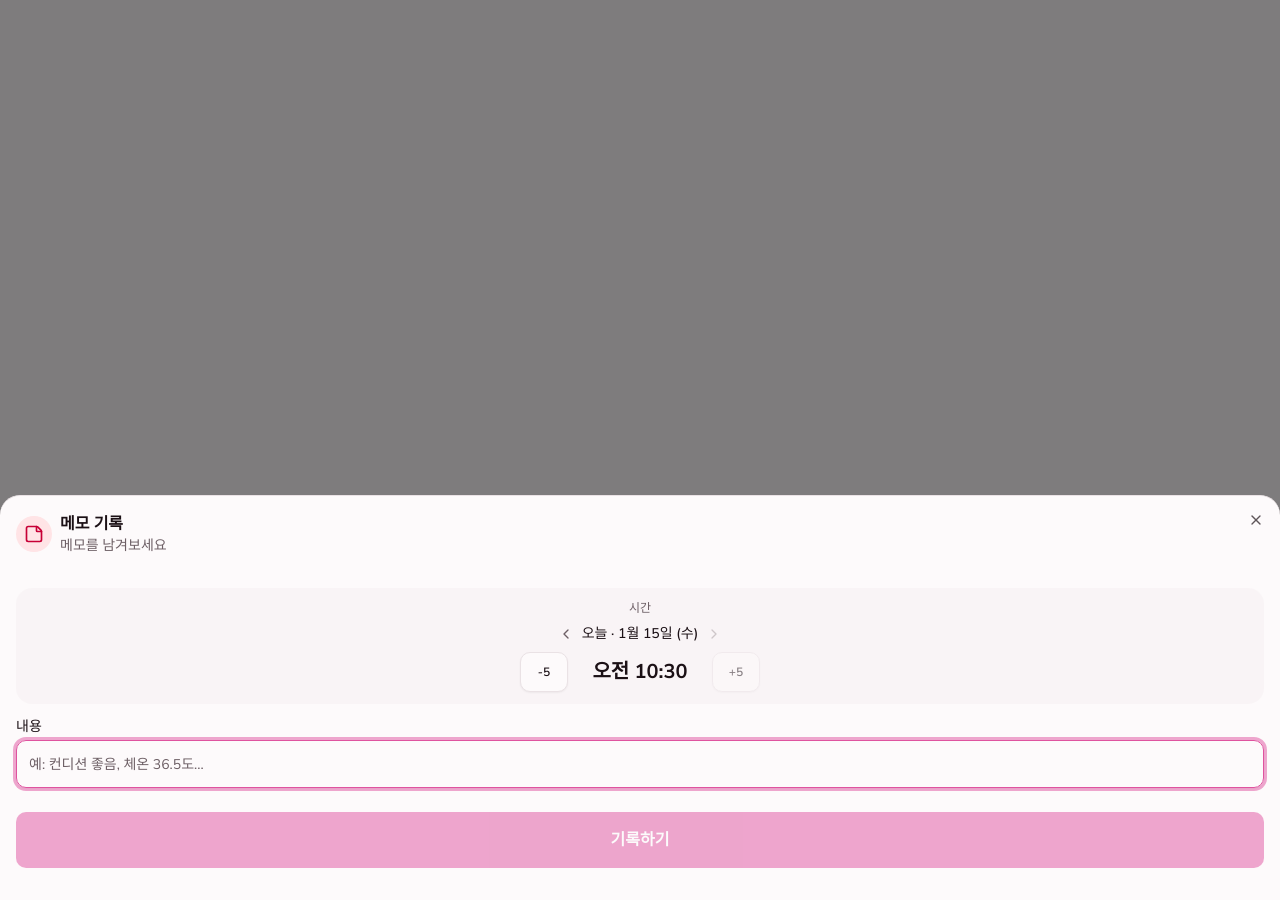
MemoSheet › submit button is enabled when content is provided
Type "체온 36.5도" into the field with placeholder "예: 컨디션 좋음, 체온 36.5도..." at (640, 764), box [16, 740, 1264, 788]
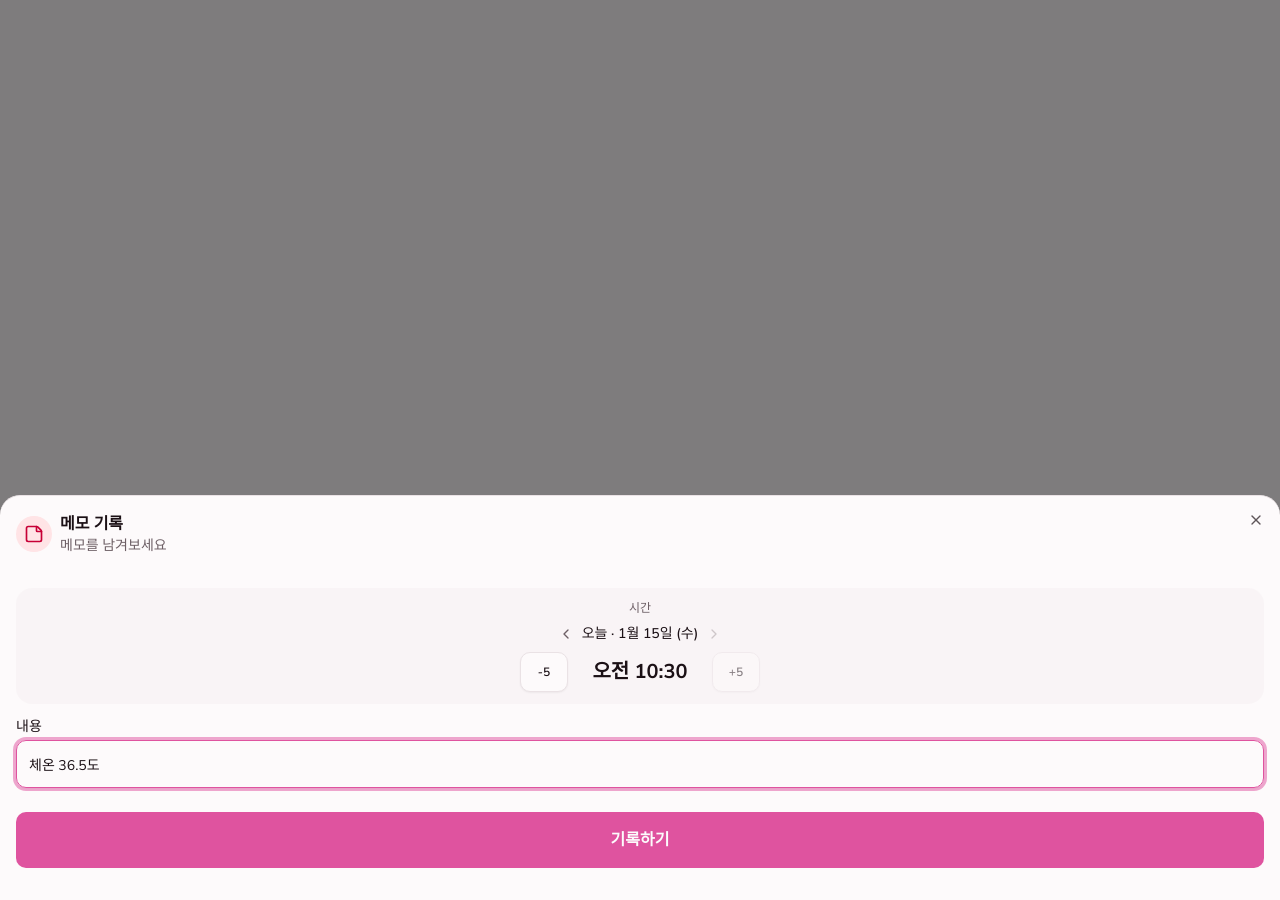
Result: the button "기록하기" is enabled at [16, 812, 1264, 868]
